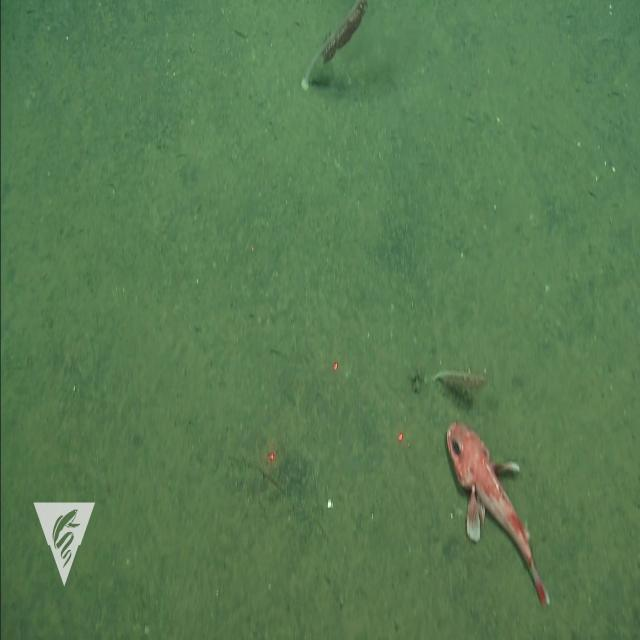Not Brittle Star: (442, 414, 543, 597)
